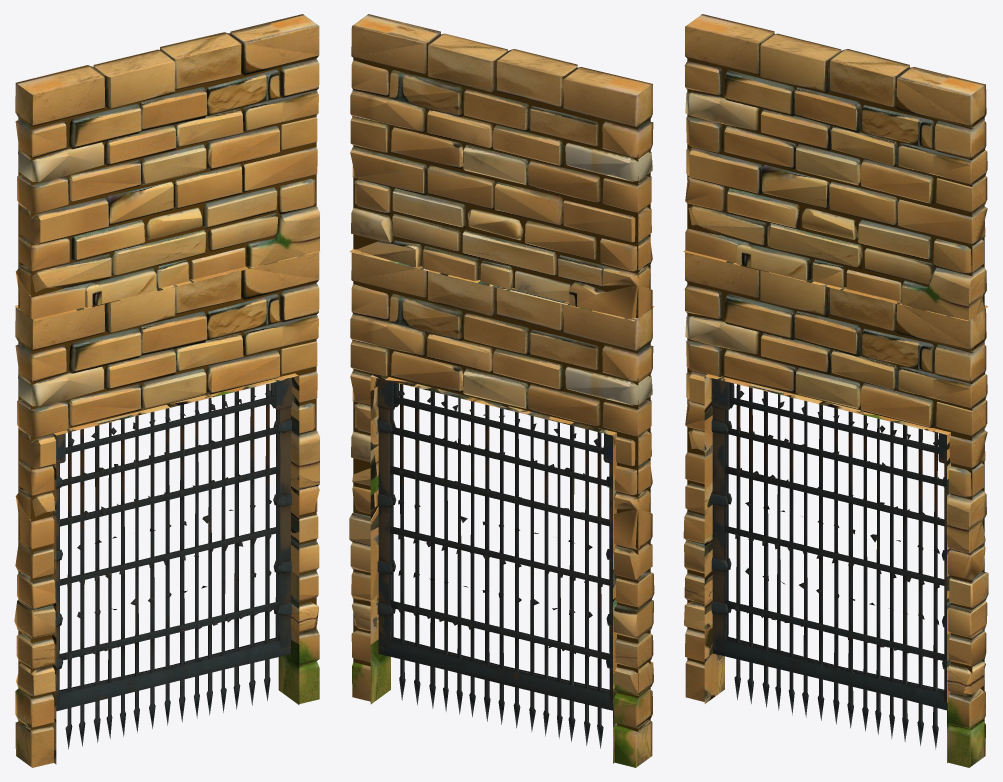
File: portcullis.glb
The picture shows the model from 3 angles, left to right: view 1: azimuth 30°, elevation 25°; view 2: azimuth 150°, elevation 25°; view 3: azimuth 330°, elevation 25°; orthographic projection.
Visible parts, largest first — view 1: FrameTop, Frame, Grid; view 2: FrameTop, Frame, Grid; view 3: FrameTop, Frame, Grid.
Boxes of the visible parts, bbox=[...] form: FrameTop: bbox=[14, 14, 320, 320]; Frame: bbox=[14, 252, 320, 767]; Grid: bbox=[56, 378, 292, 749]; FrameTop: bbox=[349, 14, 654, 321]; Frame: bbox=[349, 251, 654, 767]; Grid: bbox=[377, 378, 612, 748]; FrameTop: bbox=[683, 14, 988, 320]; Frame: bbox=[683, 250, 988, 767]; Grid: bbox=[711, 378, 946, 749].
Size of the model in its own units: 2 by 4.5 by 0.25.
Materials: 2 (2 with a texture image).
